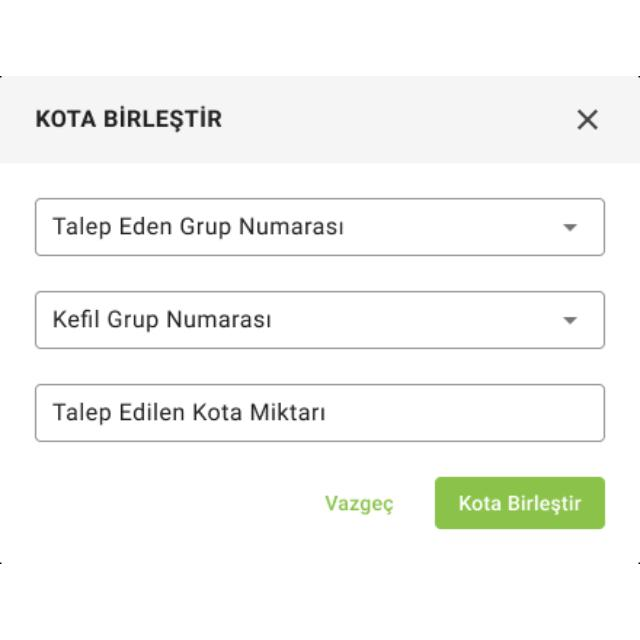QLabel: (31, 102, 226, 134), (452, 489, 586, 519), (320, 489, 406, 519)
VBtn: (434, 476, 606, 532)
VCombobox: (35, 198, 605, 258), (35, 292, 605, 351)
VDialog: (0, 76, 640, 564)
VIcon: (576, 108, 600, 130)
VTextField: (35, 384, 605, 444)
